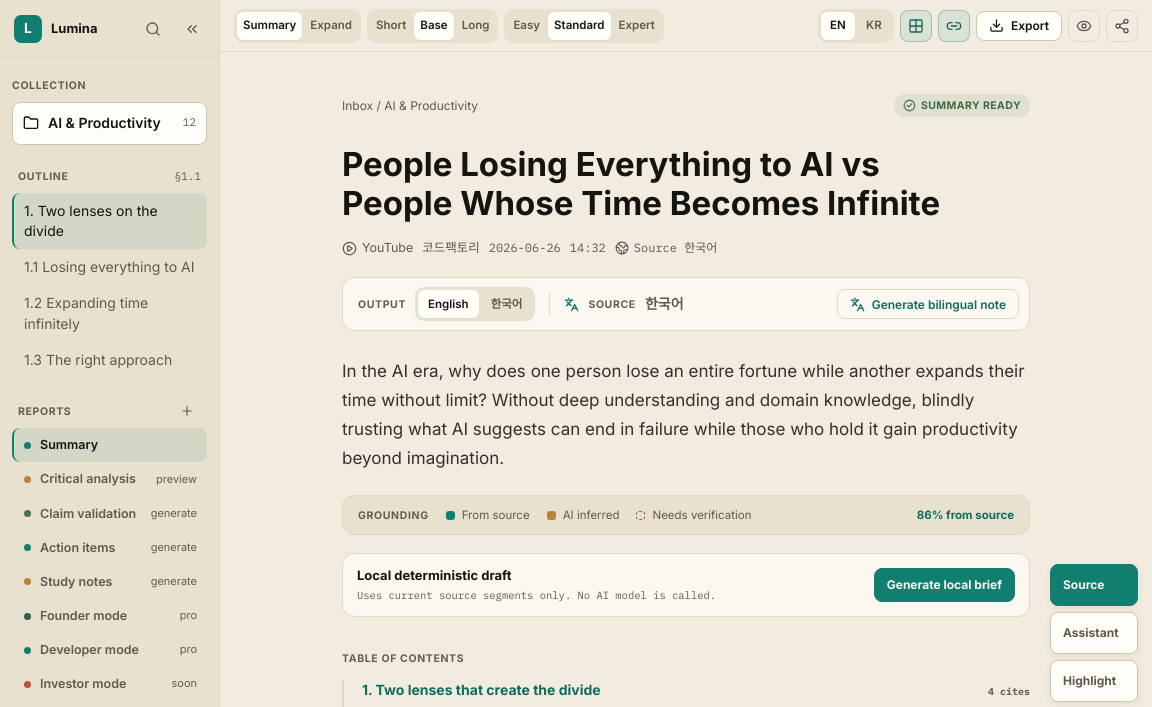
WorkspaceShell › supports local-only manual review approval and rejection for generated briefs
Click the button "Generate local brief" at (944, 585), box [874, 568, 1015, 602]
(page scrolled)
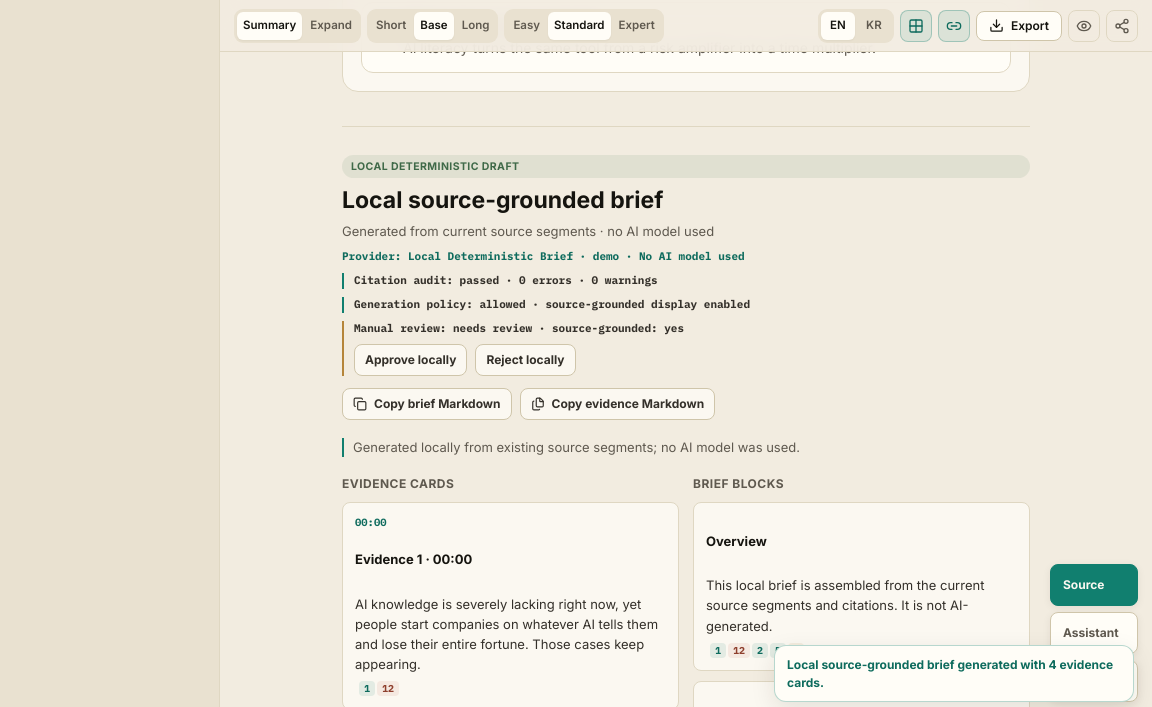
Result: the text "Manual review: needs review · source-grounded: yes" is shown at [354, 321, 684, 335]
Click the button "Approve locally" at (411, 360), box [354, 344, 467, 376]
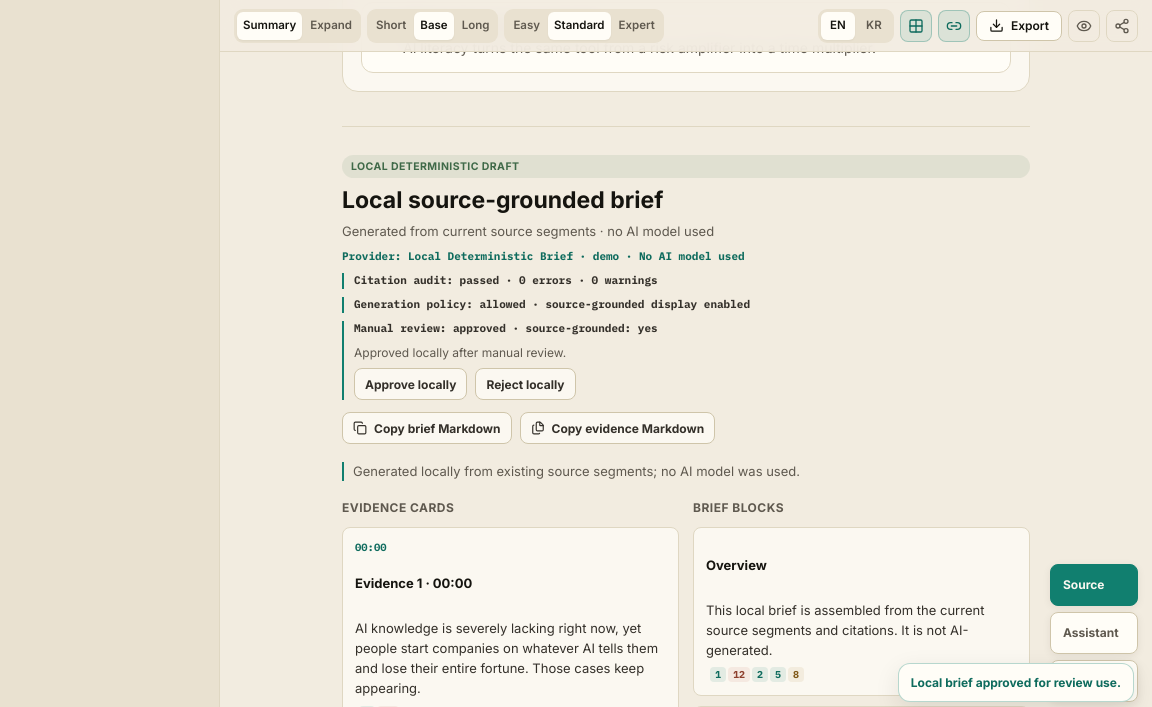
Result: the text "Manual review: approved · source-grounded: yes" is shown at [354, 321, 658, 335]
Result: the text "Approved locally after manual review." is shown at [354, 345, 566, 360]
Result: the text "Local brief approved for review use." is shown at [898, 663, 1134, 702]
Click the button "Reject locally" at (526, 384), box [475, 368, 576, 400]
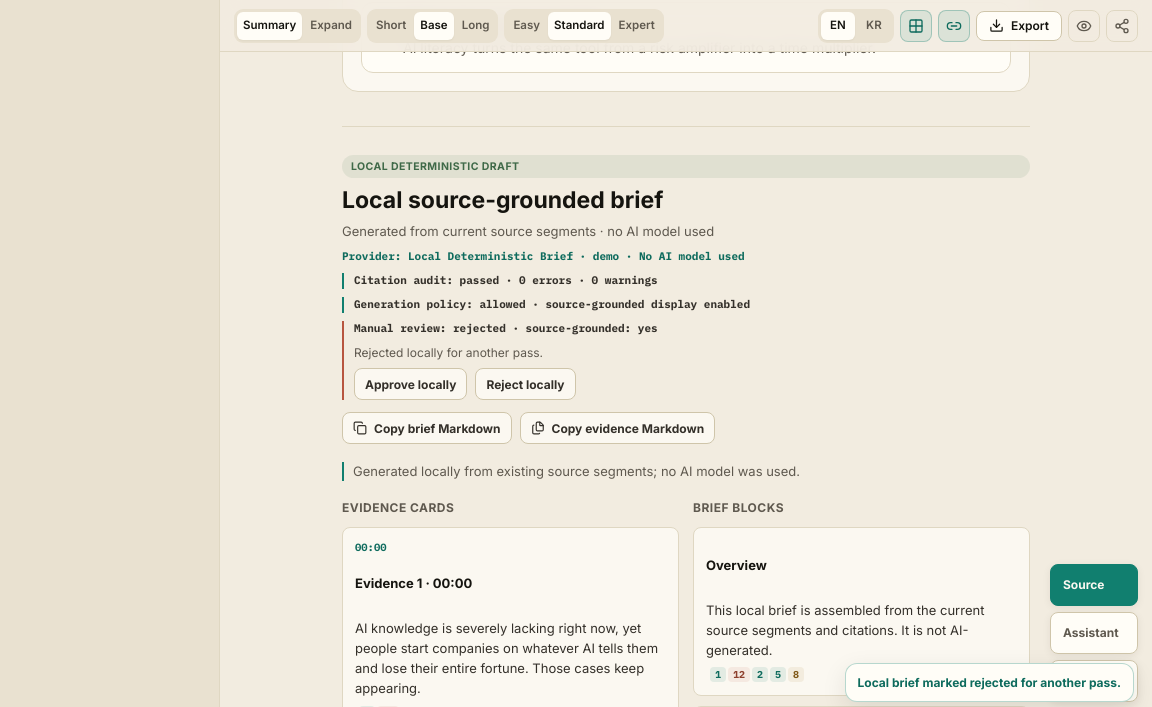
Result: the text "Manual review: rejected · source-grounded: yes" is shown at [354, 321, 658, 335]
Result: the text "Rejected locally for another pass." is shown at [354, 345, 543, 360]
Result: the text "Local brief marked rejected for another pass." is shown at [844, 663, 1134, 702]
